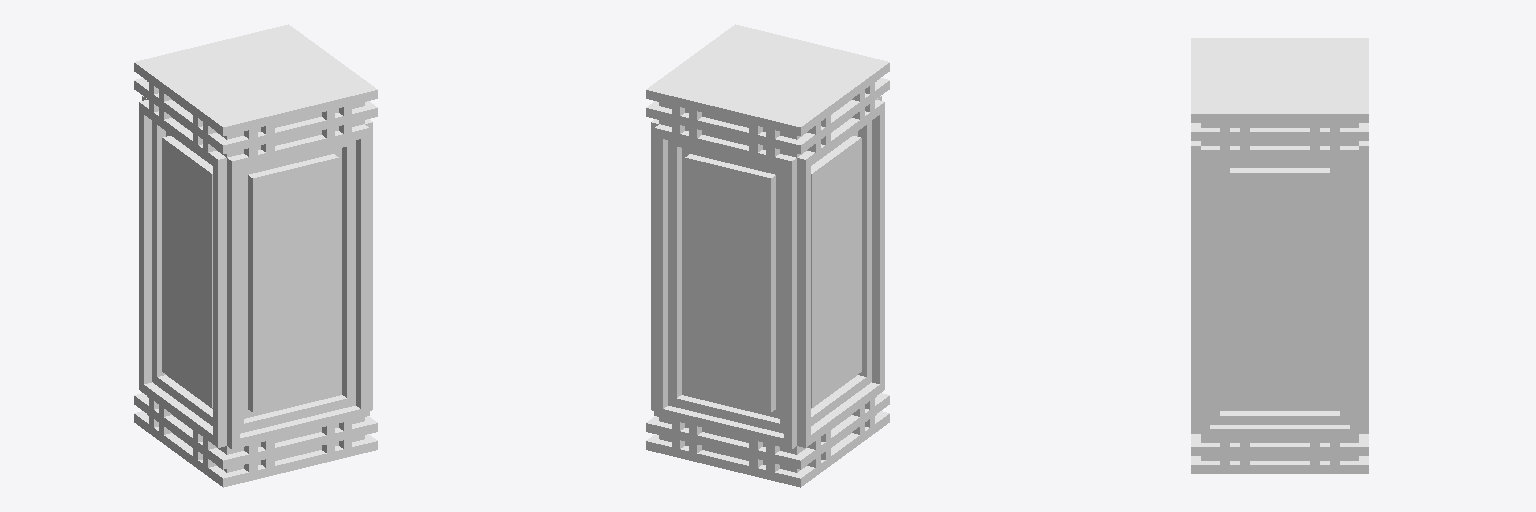
The model's file is Pillar3.obj.
3 views of the same model, side by side, from view 1: azimuth 30°, elevation 25°; view 2: azimuth 150°, elevation 25°; view 3: azimuth 270°, elevation 25° (orthographic).
Parts seen in each view (by area): view 1: object 1; view 2: object 1; view 3: object 1.
Boxes of the visible parts, x1=… form: object 1: x1=134, y1=24, x2=377, y2=487; object 1: x1=646, y1=24, x2=889, y2=487; object 1: x1=1191, y1=38, x2=1368, y2=473.
Size of the model in its own units: 1.8 by 4 by 1.8.